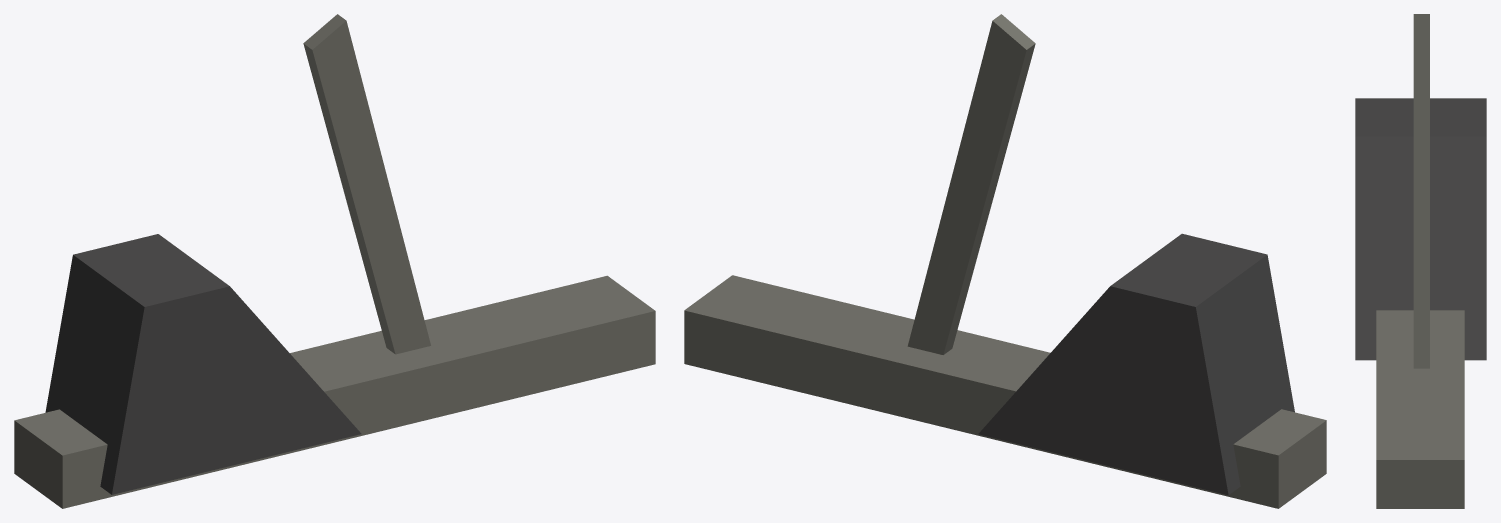
Rendered from pump_holder.fbx.
3 renders of one model, left to right at view 1: azimuth 30°, elevation 25°; view 2: azimuth 150°, elevation 25°; view 3: azimuth 270°, elevation 25°, orthographic. The views are drawn at different scales.
Parts seen in each view (by area): view 1: pump_holder; view 2: pump_holder; view 3: pump_holder.
Part boxes in pixels (bbox=[...]): pump_holder: bbox=[14, 14, 655, 508]; pump_holder: bbox=[684, 14, 1326, 508]; pump_holder: bbox=[1355, 14, 1486, 508].
Bounding box in the file's own units: 501 × 322 × 105.
